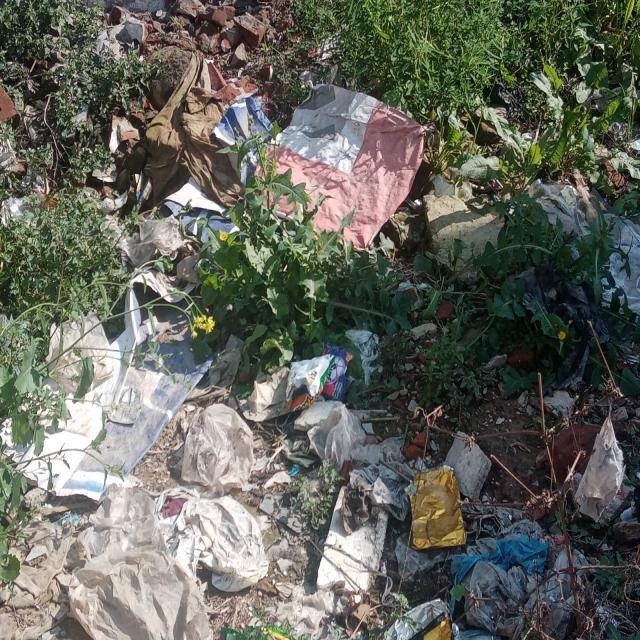garbage: (48, 328, 640, 639), (259, 81, 501, 258), (106, 80, 242, 278)
